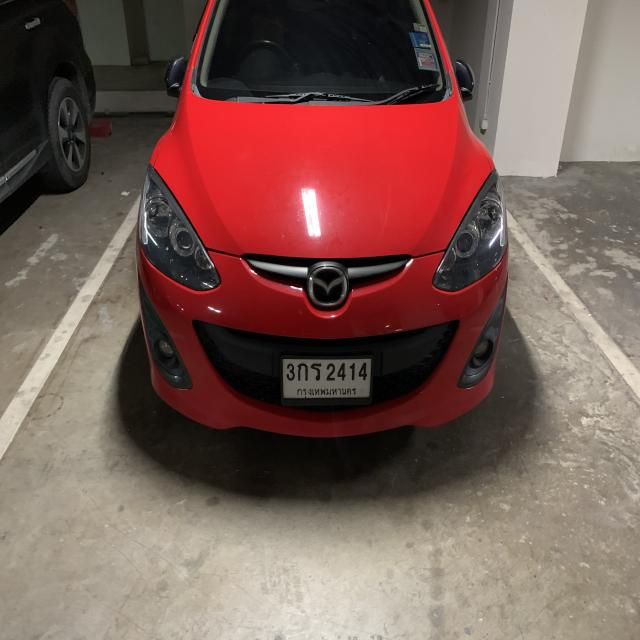license_plate: (279, 352, 374, 402)
